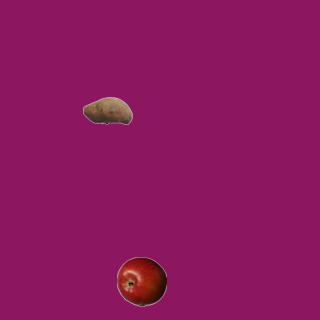Apple Braeburn: (116, 256, 166, 306)
Potato Sweet: (82, 85, 132, 135)
